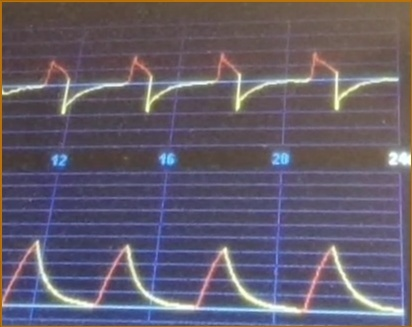Normal Flow: (2, 42, 398, 127)
Normal Volume: (2, 229, 403, 318)
